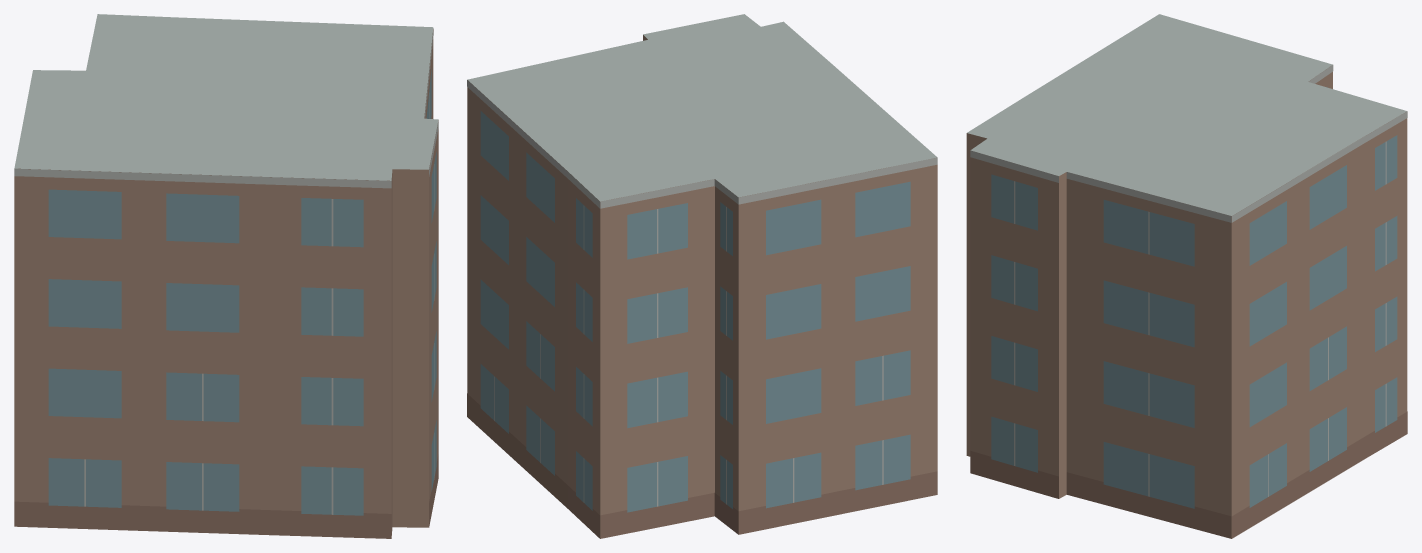
File: survey-upis-32994221.glb
3 renders of one model, left to right at view 1: azimuth 30°, elevation 25°; view 2: azimuth 150°, elevation 25°; view 3: azimuth 270°, elevation 25°, orthographic. The views are drawn at different scales.
Visible parts, largest first — view 1: survey-upis-32994221.tmp; view 2: survey-upis-32994221.tmp; view 3: survey-upis-32994221.tmp.
Boxes of the visible parts, x1=… form: survey-upis-32994221.tmp: x1=14, y1=14, x2=438, y2=538; survey-upis-32994221.tmp: x1=467, y1=14, x2=937, y2=538; survey-upis-32994221.tmp: x1=966, y1=14, x2=1407, y2=538.
Size of the model in its own units: 15.44 by 11.5 by 14.24.
